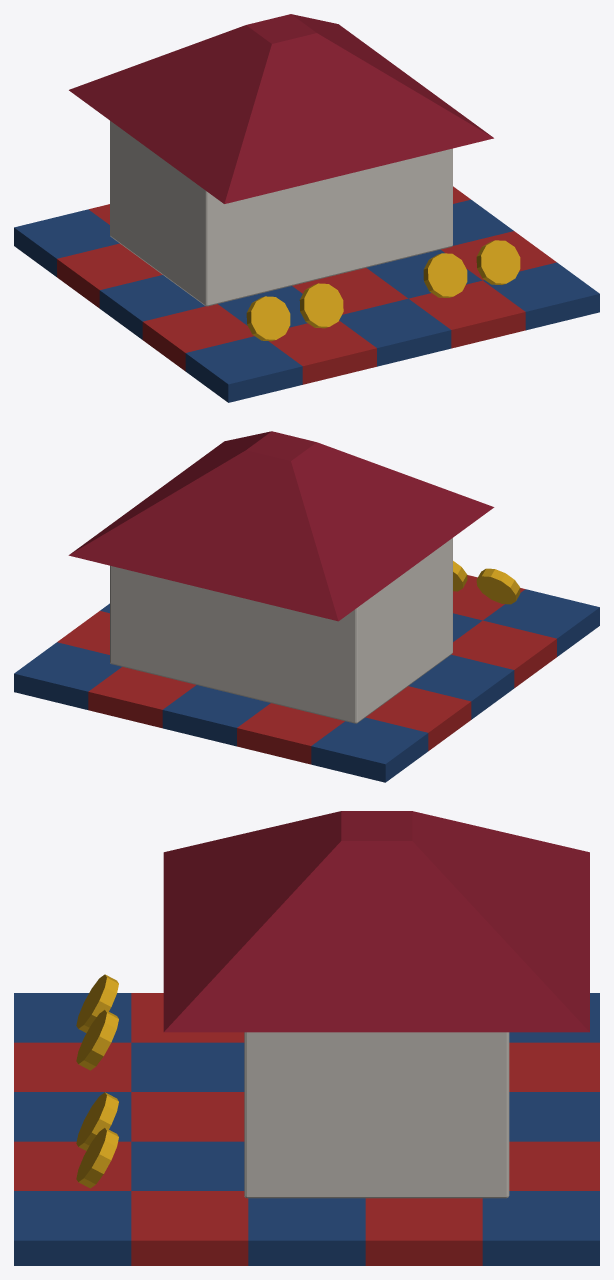
File: mugenkan.glb
The picture shows the model from 3 angles, top to bottom: view 1: azimuth 30°, elevation 25°; view 2: azimuth 150°, elevation 25°; view 3: azimuth 270°, elevation 25°; orthographic projection. The views are drawn at different scales.
Visible parts, largest first — view 1: mugenkan_Opaque; view 2: mugenkan_Opaque; view 3: mugenkan_Opaque.
Part boxes in pixels (x1=…): mugenkan_Opaque: x1=14, y1=14, x2=599, y2=402; mugenkan_Opaque: x1=14, y1=431, x2=599, y2=782; mugenkan_Opaque: x1=14, y1=811, x2=599, y2=1265.
Size of the model in its own units: 21 by 12.5 by 21.
